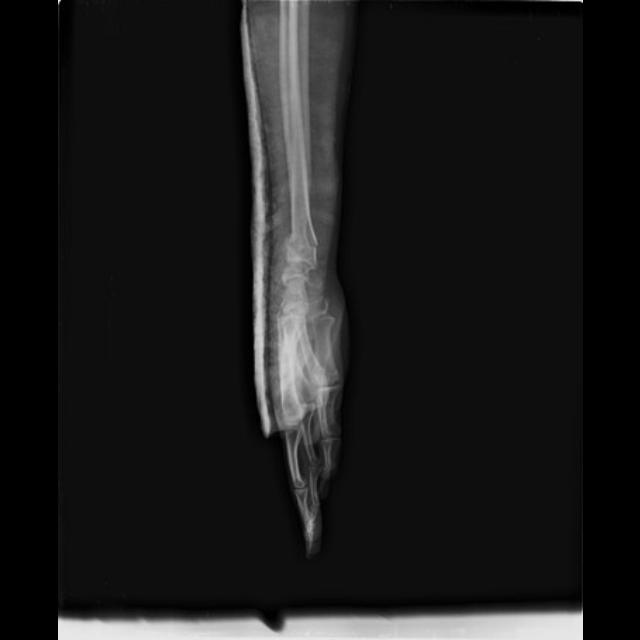Fracture: (278, 223, 321, 258)
